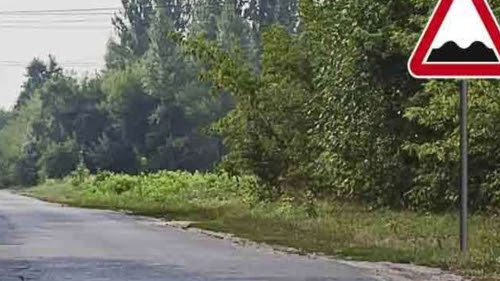1.16.2: (407, 1, 496, 75)
